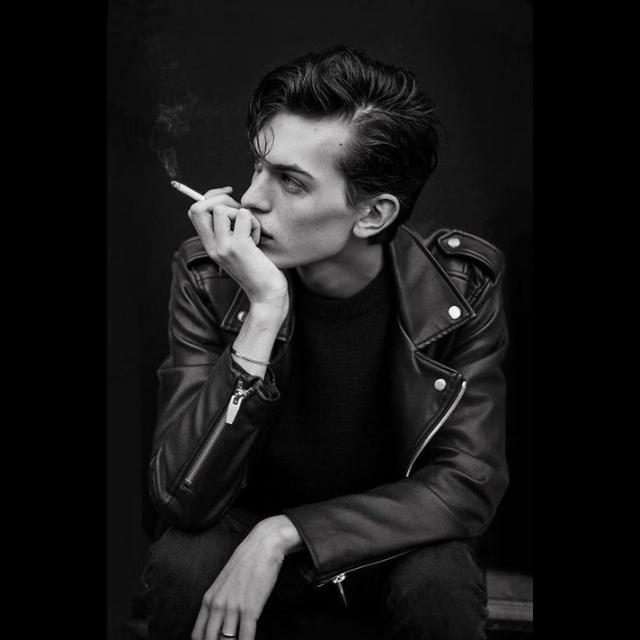rokok: (169, 173, 207, 204)
